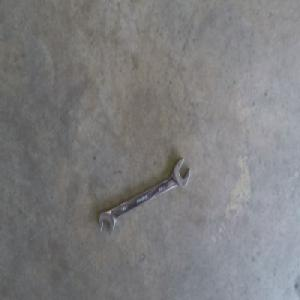Wrench: (99, 158, 190, 235)
